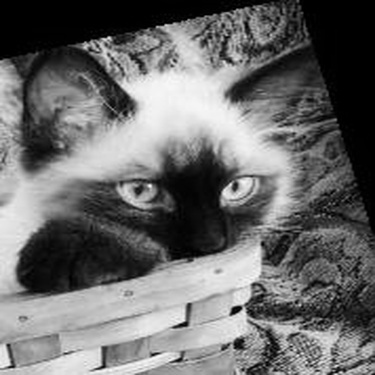cat: (5, 47, 296, 340)
